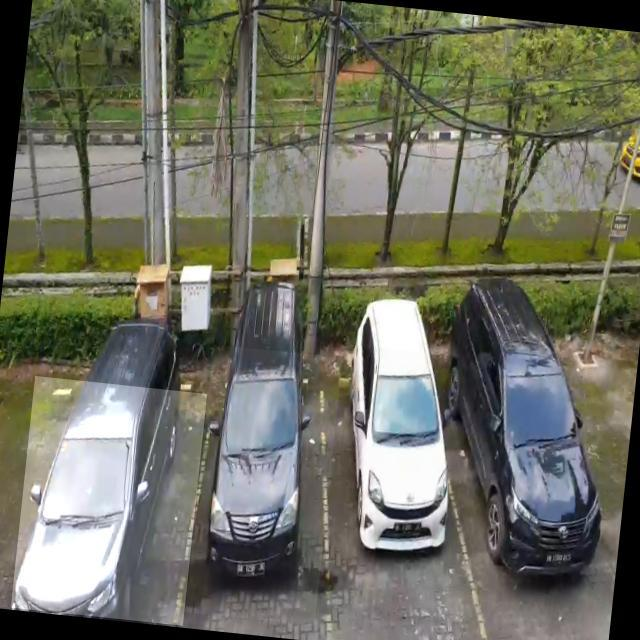occupied: (10, 376, 206, 626), (442, 336, 619, 612), (185, 344, 342, 625), (315, 344, 470, 626)
